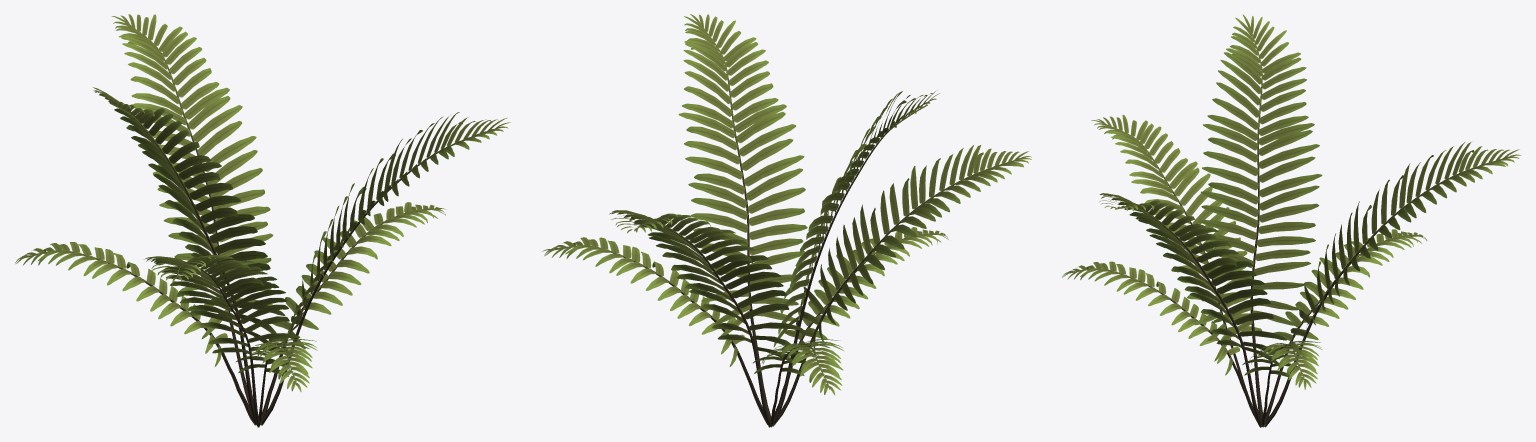
The picture shows the model from 3 angles, left to right: view 1: azimuth 30°, elevation 25°; view 2: azimuth 150°, elevation 25°; view 3: azimuth 270°, elevation 25°; orthographic projection. The views are drawn at different scales.
Visible parts, largest first — view 1: MH_Fern01_03.Shape; view 2: MH_Fern01_03.Shape; view 3: MH_Fern01_03.Shape.
Part boxes in pixels (x1,y1,x2,y2): MH_Fern01_03.Shape: [15, 14, 510, 427]; MH_Fern01_03.Shape: [542, 14, 1031, 427]; MH_Fern01_03.Shape: [1062, 14, 1521, 427].
Bounding box in the file's own units: 0.4915 × 0.4437 × 0.5436.
2 materials, 2 textured.
